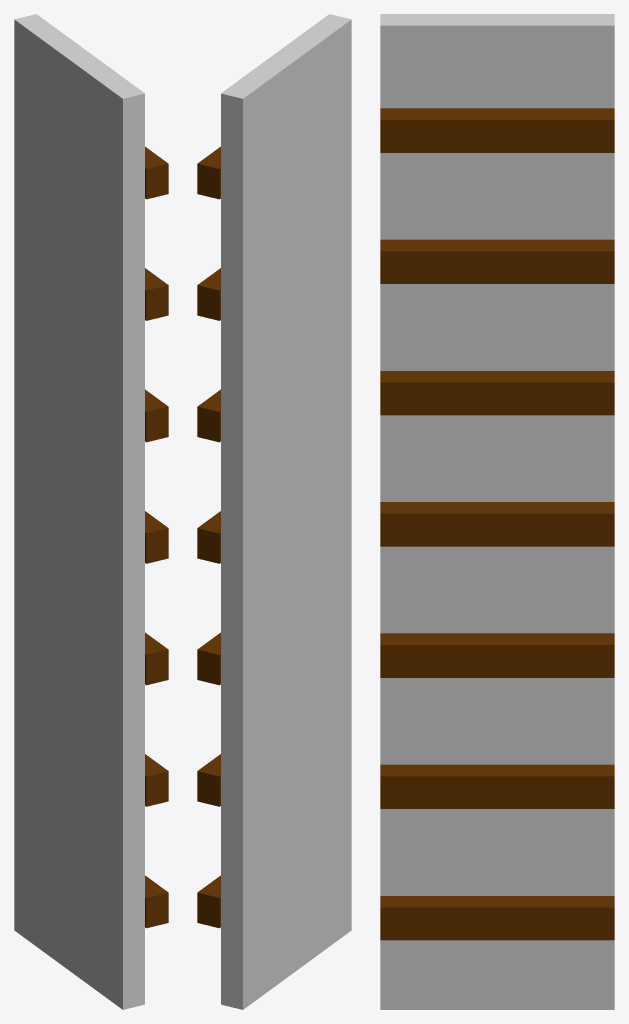
Rendered from ladder.fbx.
3 renders of one model, left to right at view 1: azimuth 30°, elevation 25°; view 2: azimuth 150°, elevation 25°; view 3: azimuth 270°, elevation 25°, orthographic. The views are drawn at different scales.
Visible parts, largest first — view 1: Ladder, Rung.005, Rung, Rung.001, Rung.002, Rung.003, Rung.004, Rung.006; view 2: Ladder, Rung.005, Rung, Rung.001, Rung.002, Rung.003, Rung.004, Rung.006; view 3: Ladder, Rung, Rung.001, Rung.002, Rung.003, Rung.004, Rung.005, Rung.006.
Boxes of the visible parts, bbox=[...] form: Ladder: bbox=[14, 14, 144, 1009]; Rung.005: bbox=[145, 389, 168, 442]; Rung: bbox=[145, 754, 168, 806]; Rung.001: bbox=[145, 632, 168, 685]; Rung.002: bbox=[145, 875, 168, 928]; Rung.003: bbox=[145, 146, 168, 199]; Rung.004: bbox=[145, 511, 168, 563]; Rung.006: bbox=[145, 268, 168, 320]; Ladder: bbox=[221, 14, 351, 1009]; Rung.005: bbox=[197, 389, 220, 442]; Rung: bbox=[197, 754, 220, 806]; Rung.001: bbox=[197, 632, 220, 685]; Rung.002: bbox=[197, 875, 220, 928]; Rung.003: bbox=[197, 146, 220, 199]; Rung.004: bbox=[197, 511, 220, 563]; Rung.006: bbox=[197, 268, 220, 320]; Ladder: bbox=[380, 14, 614, 1009]; Rung: bbox=[380, 764, 614, 808]; Rung.001: bbox=[380, 633, 614, 677]; Rung.002: bbox=[380, 896, 614, 940]; Rung.003: bbox=[380, 108, 614, 152]; Rung.004: bbox=[380, 502, 614, 546]; Rung.005: bbox=[380, 371, 614, 415]; Rung.006: bbox=[380, 239, 614, 283].
Bounding box in the file's own units: 31.49 × 600 × 130.
